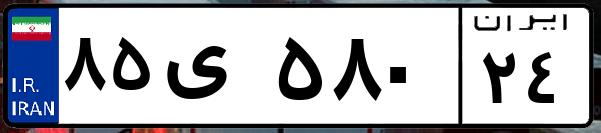0: (385, 28, 445, 110)
2: (475, 38, 525, 113)
4: (525, 38, 570, 115)
5: (270, 28, 330, 110), (110, 28, 158, 98)
8: (330, 28, 385, 110), (57, 26, 110, 100)
ی: (158, 20, 270, 120)
